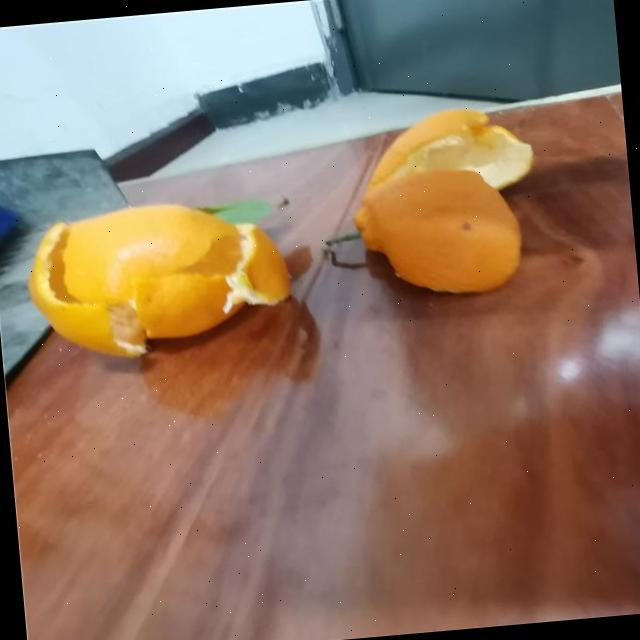orange-peel: (21, 190, 296, 365), (349, 160, 526, 304)
